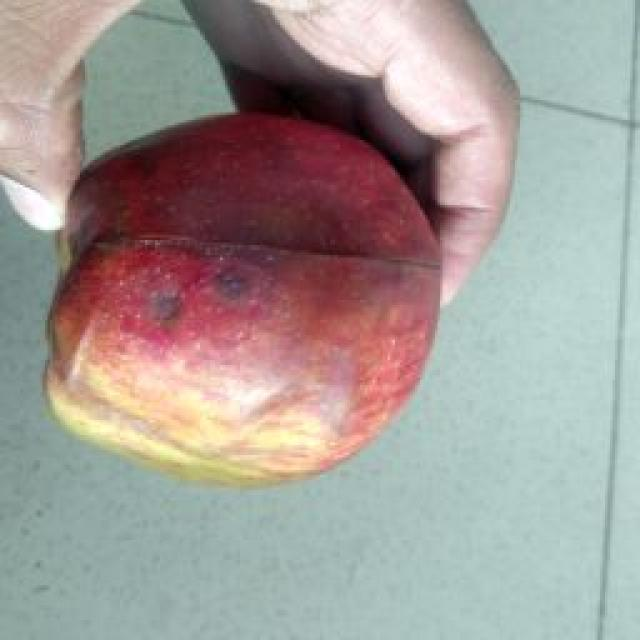Bad_Apple: (46, 114, 440, 483)
